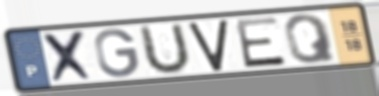E: (232, 15, 289, 70)
G: (92, 27, 141, 80)
Q: (282, 12, 339, 65)
U: (138, 21, 193, 78)
V: (186, 17, 230, 74)
X: (39, 28, 99, 85)
